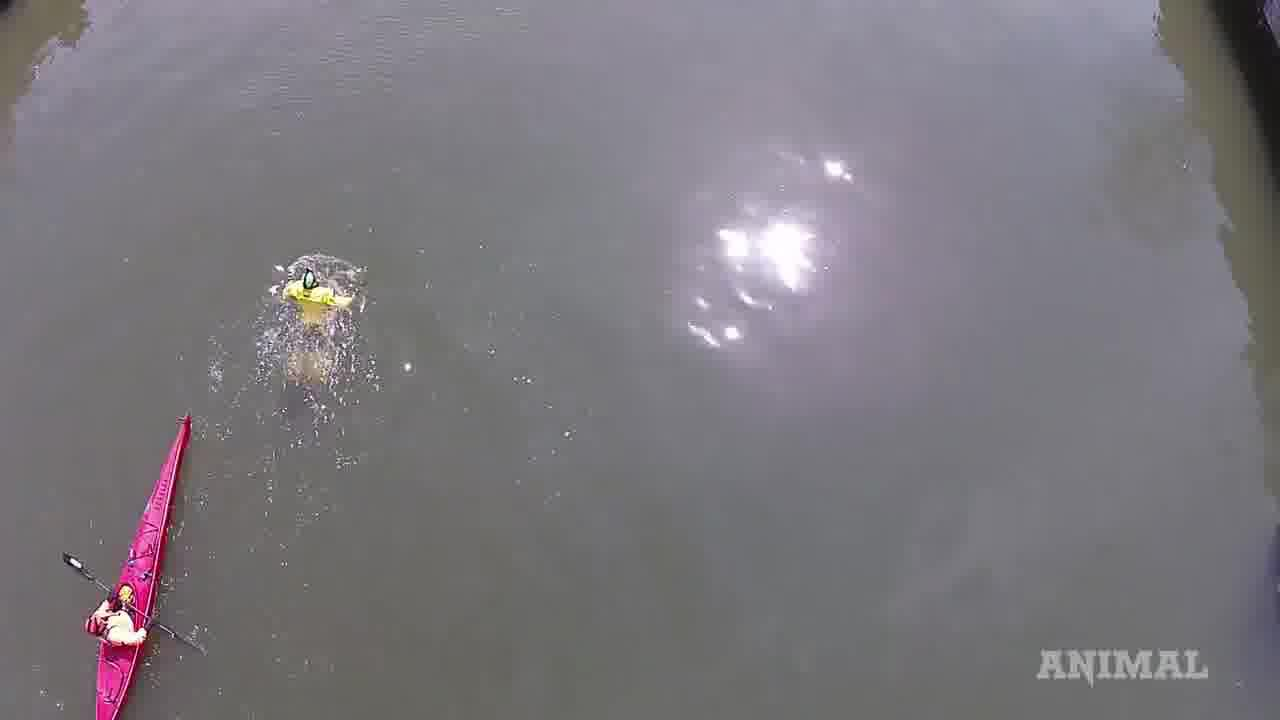human: (263, 235, 374, 372)
